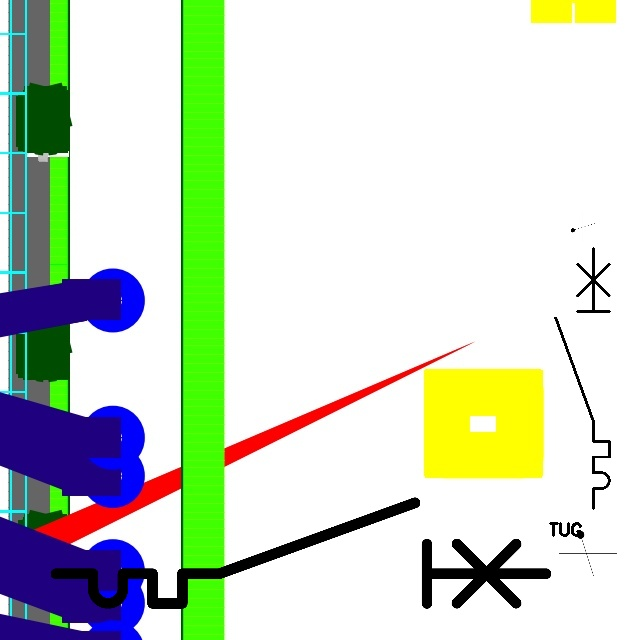interruptor_termomagnetico: (43, 490, 559, 616), (549, 241, 616, 514)
